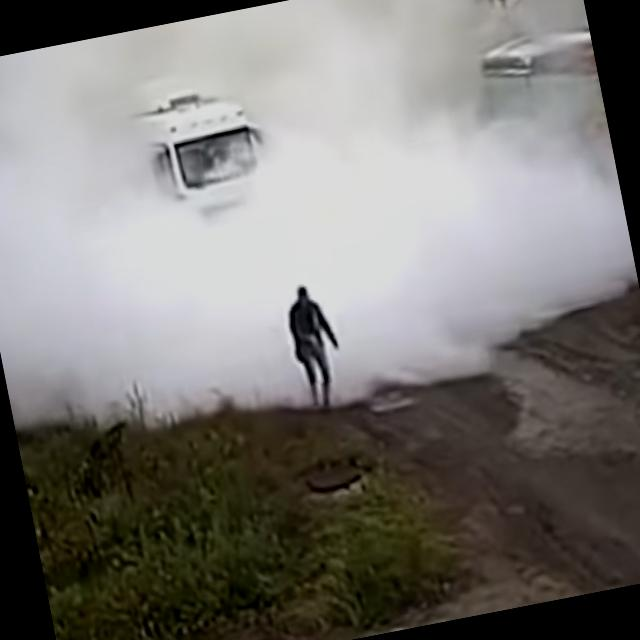person: (282, 282, 351, 413)
